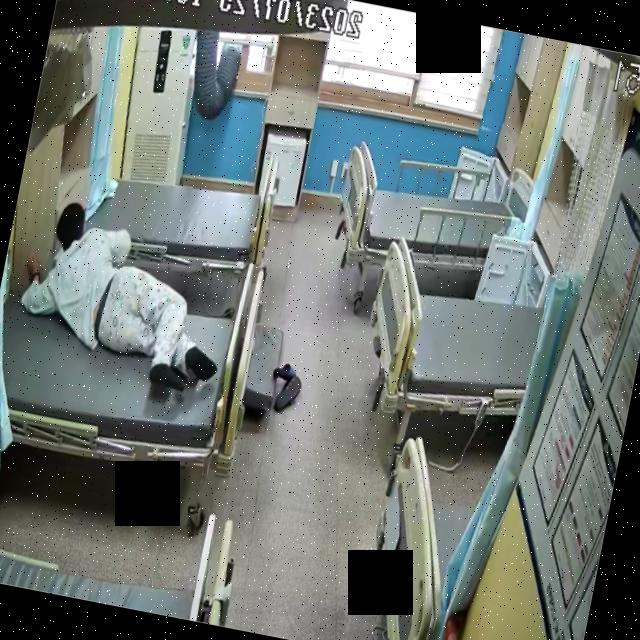bed: (0, 217, 272, 484), (74, 109, 286, 298), (354, 238, 548, 432), (332, 145, 518, 290)
danger: (8, 196, 244, 400)
patient: (8, 198, 243, 404)
